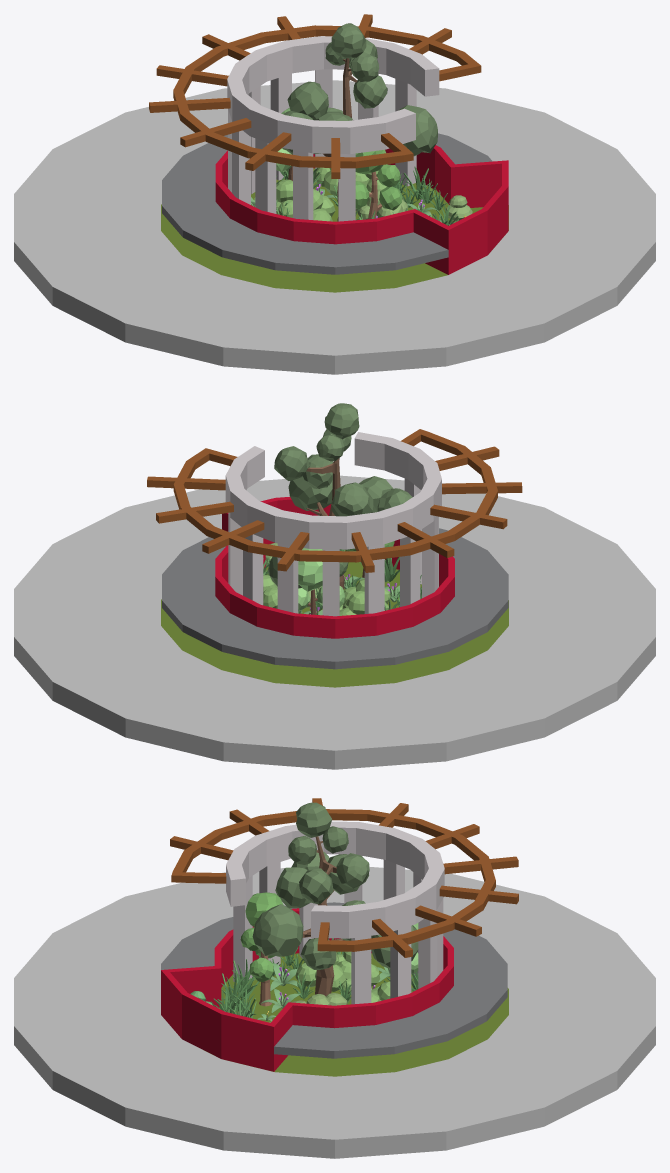
The model's file is D1_SPACE_FILLER.fbx.
3 views of the same model, one above another, from view 1: azimuth 30°, elevation 25°; view 2: azimuth 150°, elevation 25°; view 3: azimuth 270°, elevation 25° (orthographic).
Parts seen in each view (by area): view 1: D1_EMPTY_SPACE_FILLER; view 2: D1_EMPTY_SPACE_FILLER; view 3: D1_EMPTY_SPACE_FILLER.
Part boxes in pixels (x1,y1,x2,y2): D1_EMPTY_SPACE_FILLER: (14,14,655,374); D1_EMPTY_SPACE_FILLER: (14,403,655,769); D1_EMPTY_SPACE_FILLER: (14,798,655,1158).
Bounding box in the file's own units: 1307 × 481 × 1286.
